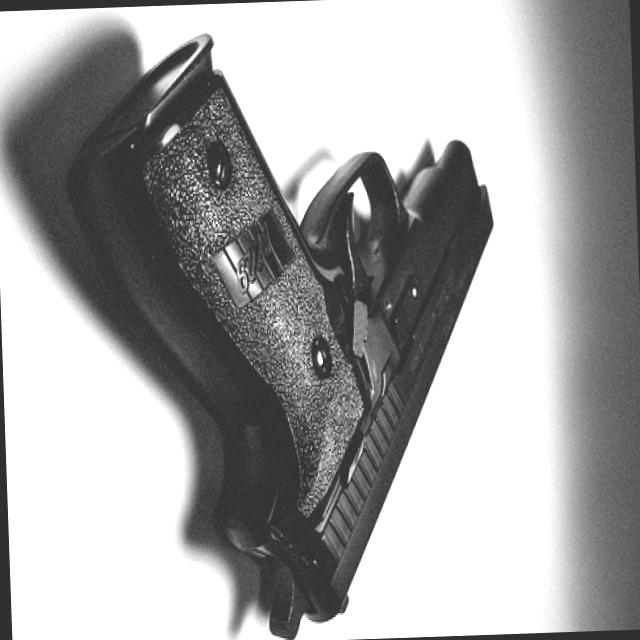handgun: (64, 24, 511, 639)
